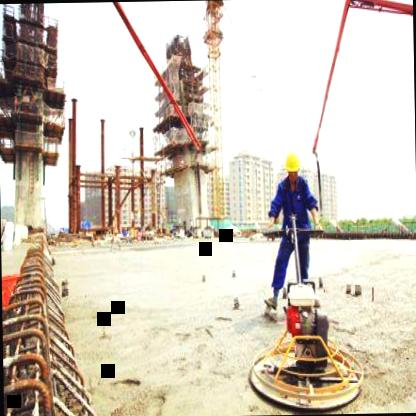helmet: (282, 150, 304, 184)
